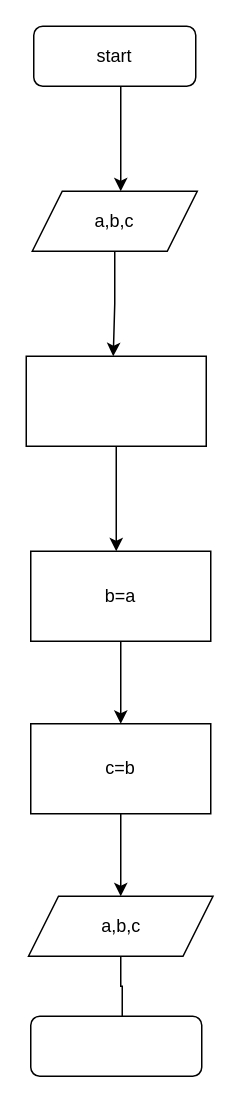
Image size: 240x1103. Some labels were removed from this diagram. Each missing label, with the centre of its shape:
a=c: the point at 115,400
end: the point at 115,1045
